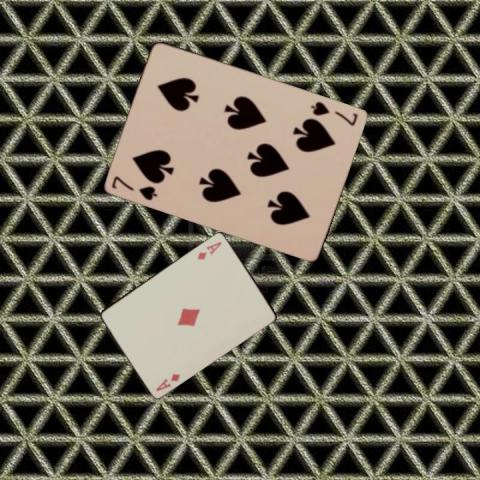7s: (308, 98, 360, 127), (109, 173, 159, 202)
Ad: (194, 238, 223, 261), (153, 370, 181, 392)
